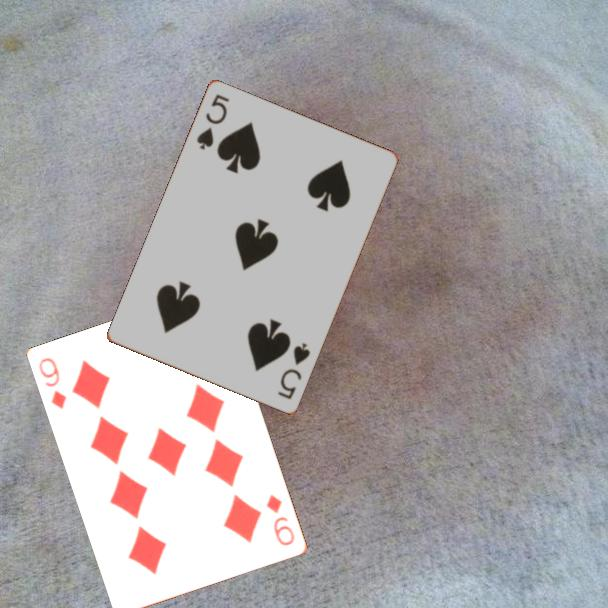d09: (263, 491, 298, 549), (35, 354, 70, 412)
s05: (275, 339, 313, 403), (193, 91, 232, 153)
